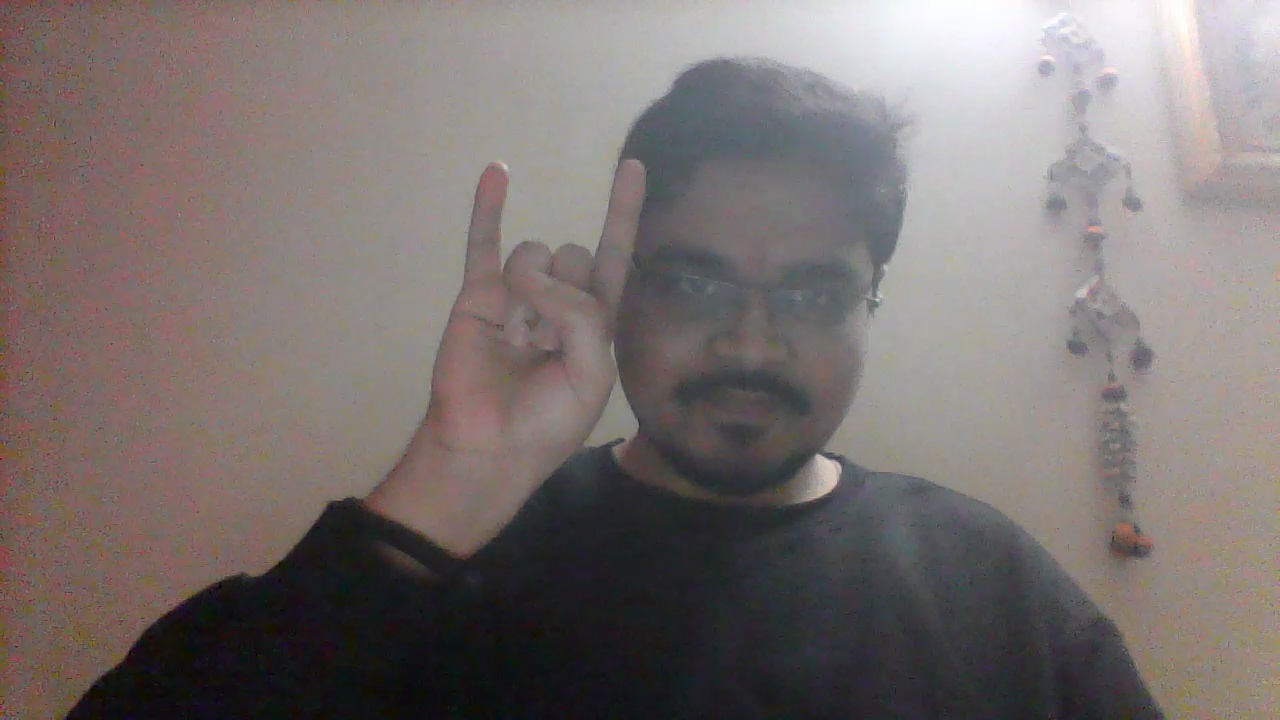ILoveYou: (427, 153, 652, 479)
